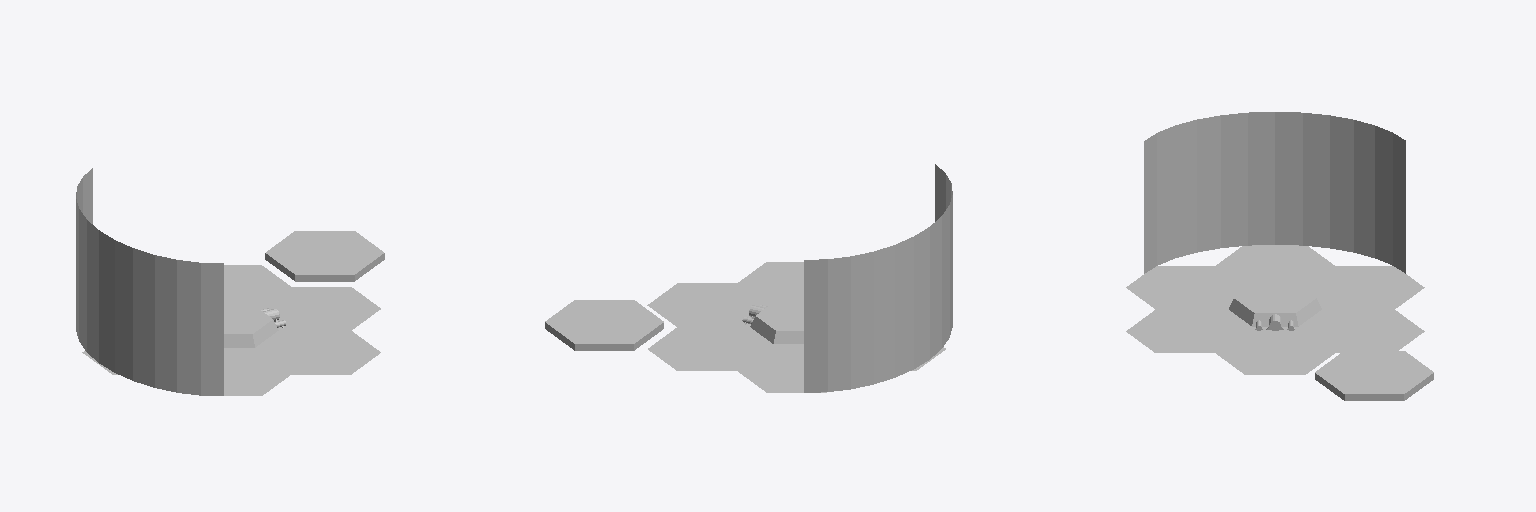
Rendered from floor.obj.
The picture shows the model from 3 angles: view 1: azimuth 30°, elevation 25°; view 2: azimuth 150°, elevation 25°; view 3: azimuth 270°, elevation 25°; orthographic projection.
Parts seen in each view (by area): view 1: Circle.008_Shield, Circle.009_Circle.001, Circle.002_Circle.004, Circle.001_Circle.003, Circle.004, Circle.005_Circle.004, Circle.007_Circle.013; view 2: Circle.008_Shield, Circle.009_Circle.001, Circle.005_Circle.004, Circle.001_Circle.003, Circle.006_Circle.004, Circle.002_Circle.004, Circle.007_Circle.013; view 3: Circle.008_Shield, Circle.009_Circle.001, Circle.004, Circle.006_Circle.004, Circle.002_Circle.004, Circle.001_Circle.003, Circle.005_Circle.004, Circle.003_Circle.005, Circle.007_Circle.013, Circle.
Part boxes in pixels (left/top/right/bottom): Circle.008_Shield: left=76, top=168, right=223, bottom=395; Circle.009_Circle.001: left=265, top=231, right=384, bottom=281; Circle.002_Circle.004: left=262, top=331, right=380, bottom=374; Circle.001_Circle.003: left=262, top=287, right=380, bottom=330; Circle.004: left=224, top=353, right=291, bottom=395; Circle.005_Circle.004: left=224, top=265, right=290, bottom=308; Circle.007_Circle.013: left=224, top=304, right=278, bottom=347; Circle.008_Shield: left=804, top=164, right=952, bottom=392; Circle.009_Circle.001: left=545, top=300, right=663, bottom=350; Circle.005_Circle.004: left=648, top=327, right=765, bottom=370; Circle.001_Circle.003: left=647, top=283, right=766, bottom=326; Circle.006_Circle.004: left=738, top=349, right=826, bottom=392; Circle.002_Circle.004: left=737, top=262, right=803, bottom=304; Circle.007_Circle.013: left=750, top=301, right=803, bottom=343; Circle.008_Shield: left=1144, top=112, right=1405, bottom=273; Circle.009_Circle.001: left=1315, top=351, right=1433, bottom=400; Circle.004: left=1126, top=266, right=1244, bottom=309; Circle.006_Circle.004: left=1306, top=266, right=1424, bottom=309; Circle.002_Circle.004: left=1126, top=310, right=1244, bottom=352; Circle.001_Circle.003: left=1216, top=332, right=1334, bottom=374; Circle.005_Circle.004: left=1305, top=310, right=1424, bottom=352; Circle.003_Circle.005: left=1216, top=245, right=1334, bottom=287; Circle.007_Circle.013: left=1229, top=283, right=1321, bottom=326; Circle: left=1216, top=288, right=1334, bottom=331.
Size of the model in its own units: 6.22 by 2.45 by 5.16.